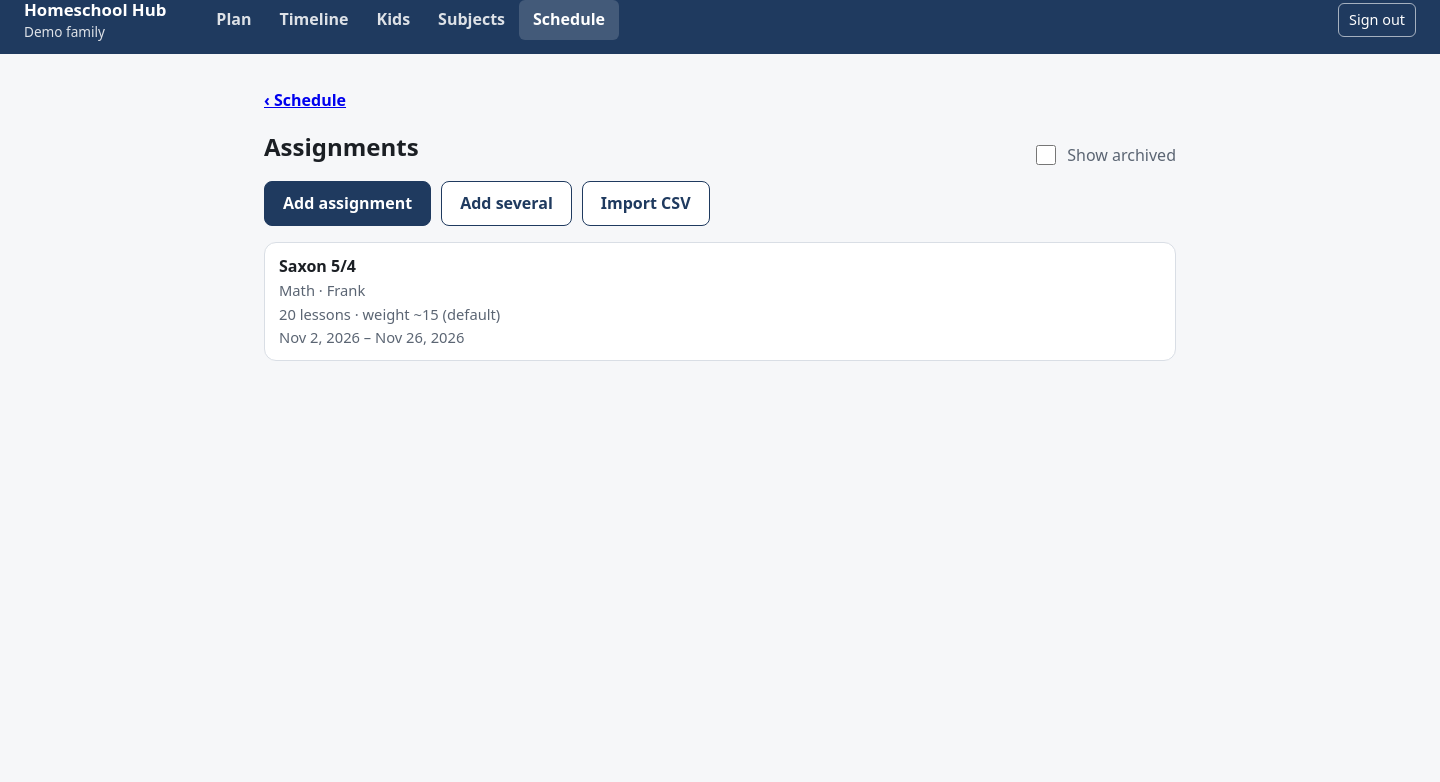
Test case: Add several assignments (S3a-04) › Add row and Remove change the rows
Check: the list named "Assignments" is shown, box [264,242,1176,361]
Click the button "Add several": (506, 203) [441,181,572,226]
(page scrolled)
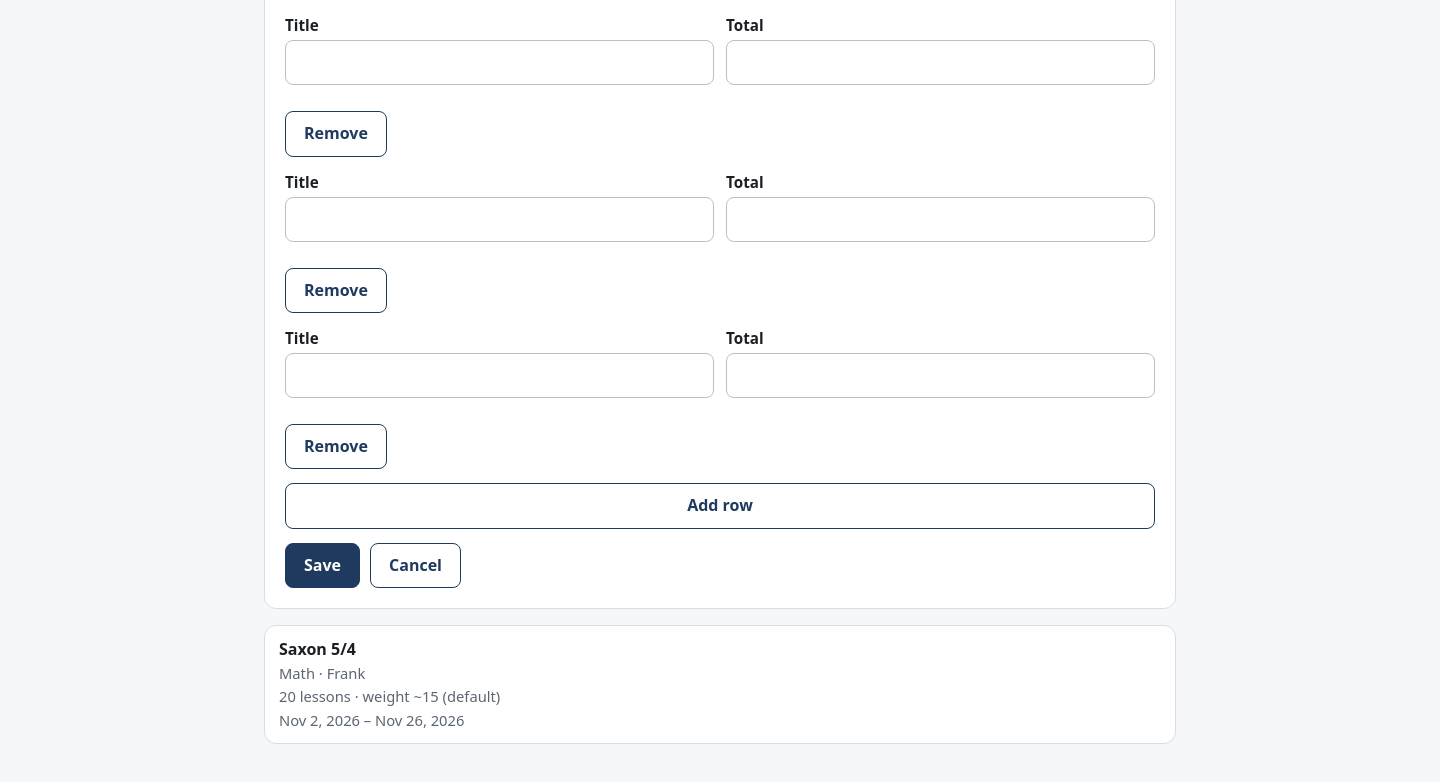
Click the button "Add row": (720, 506) [285,483,1155,529]
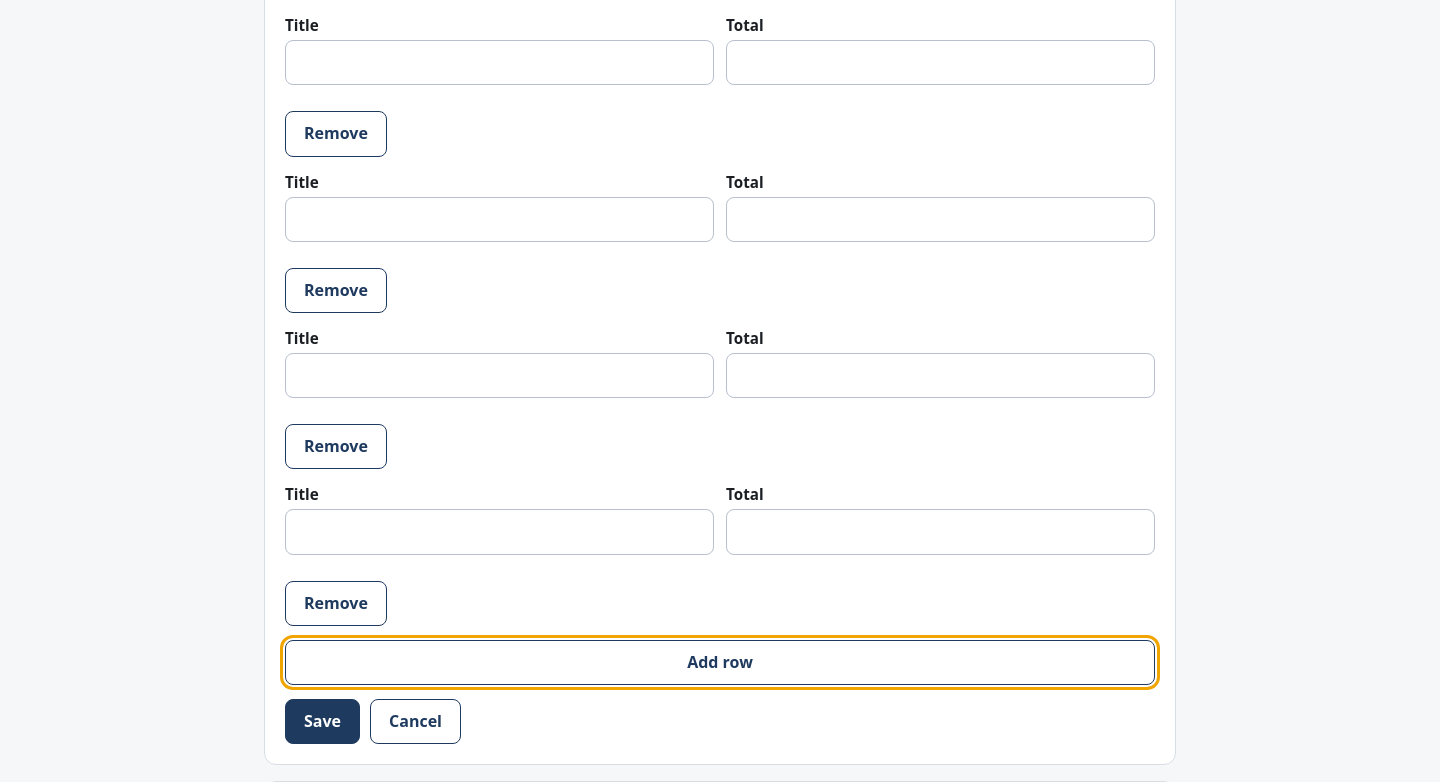
Check: the number of elements "Title Total Remove" is 4, box [285,14,1155,171]; [285,171,1155,327]; [285,327,1155,483]; [285,483,1155,640]
Click the button with aria-label "Remove row 2": (336, 290) [285,268,387,313]
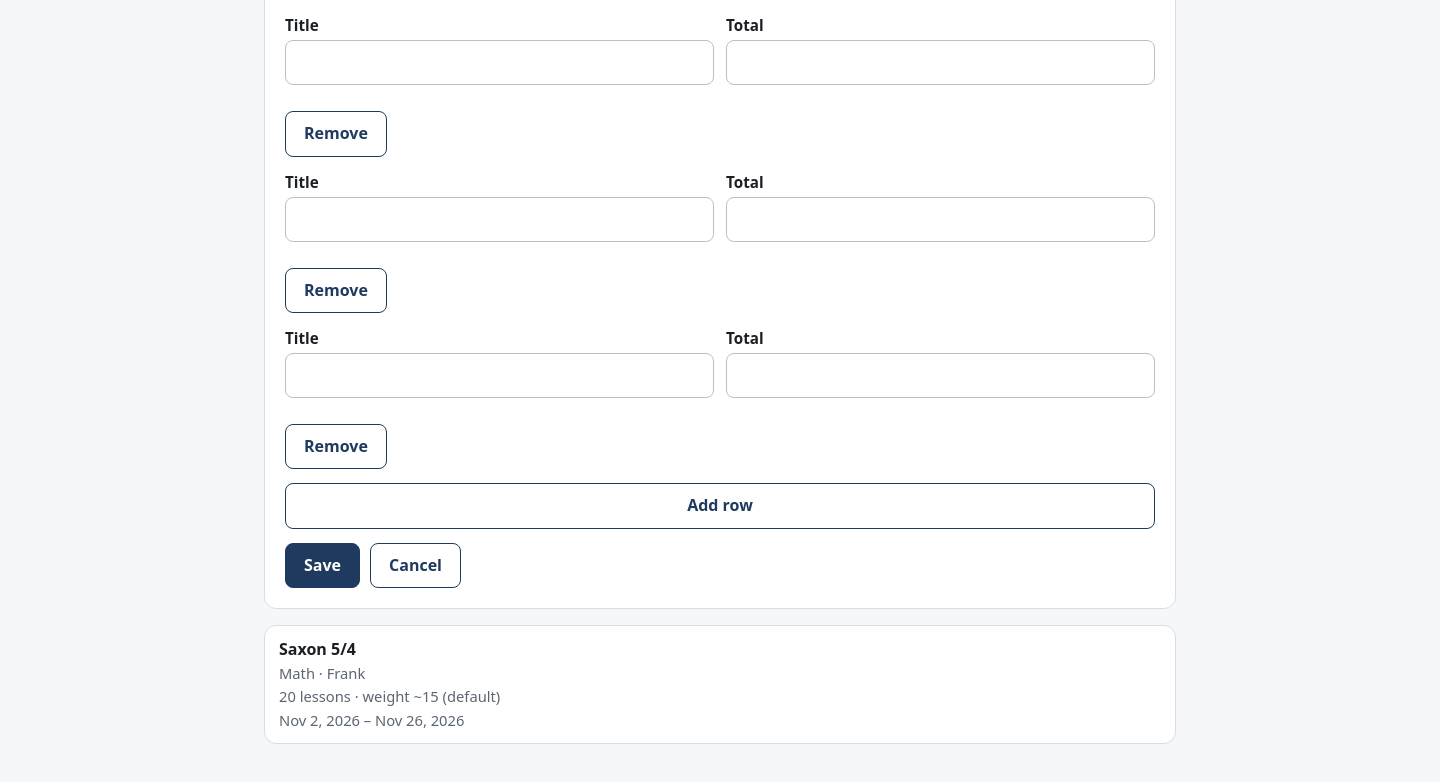
Check: the number of elements "Title Total Remove" is 3, box [285,14,1155,171]; [285,171,1155,327]; [285,327,1155,483]
